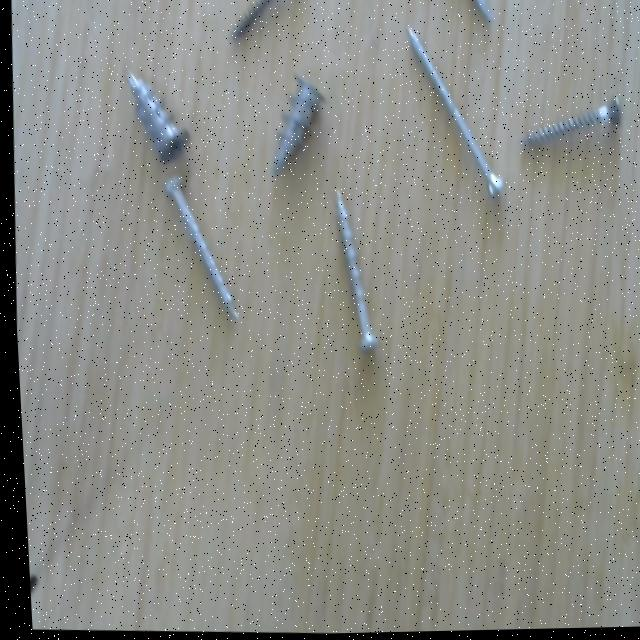Black screw: (514, 91, 625, 155)
Long screw: (399, 16, 510, 213)
Medium screw: (155, 168, 246, 331), (325, 182, 379, 361)
Short screw: (117, 59, 195, 175), (261, 66, 332, 191)
